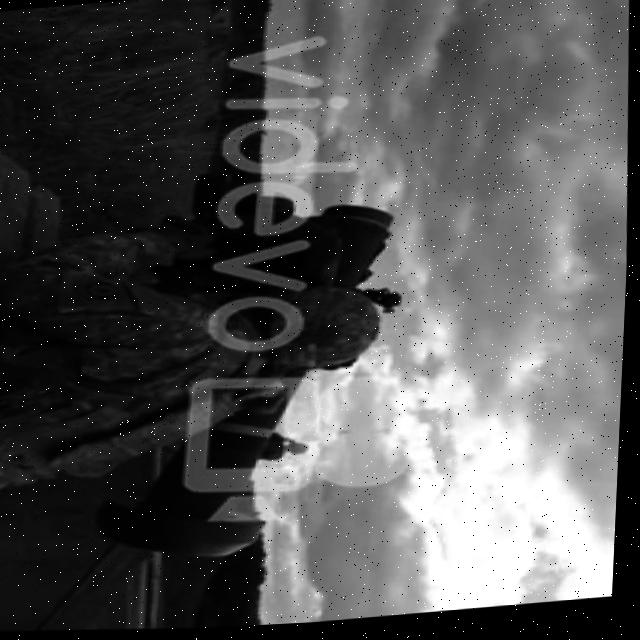rocket: (94, 360, 318, 571)
